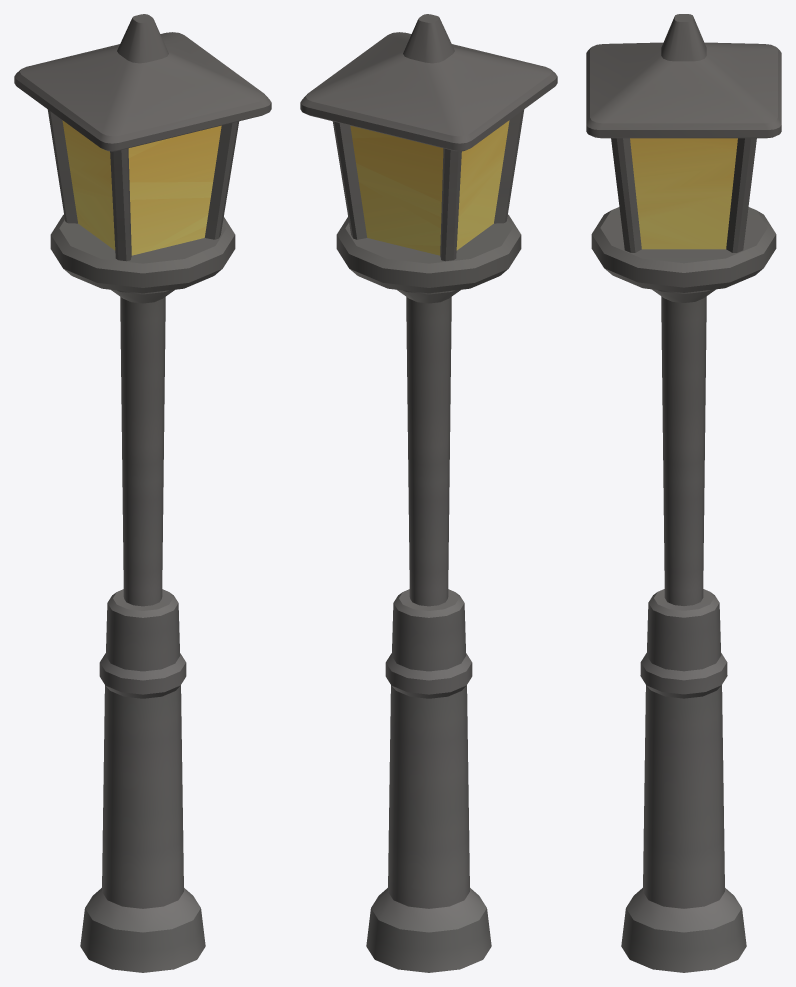
Rendered from Lamp_1_2.glb.
3 renders of one model, left to right at view 1: azimuth 30°, elevation 25°; view 2: azimuth 150°, elevation 25°; view 3: azimuth 270°, elevation 25°, orthographic.
Parts seen in each view (by area): view 1: Lamp_1_2; view 2: Lamp_1_2; view 3: Lamp_1_2.
Part boxes in pixels (<box>): Lamp_1_2: <box>14,14,271,972</box>; Lamp_1_2: <box>300,14,557,972</box>; Lamp_1_2: <box>586,14,781,972</box>.
Size of the model in its own units: 0.6015 by 3.15 by 0.6015.
2 materials, 2 textured.
